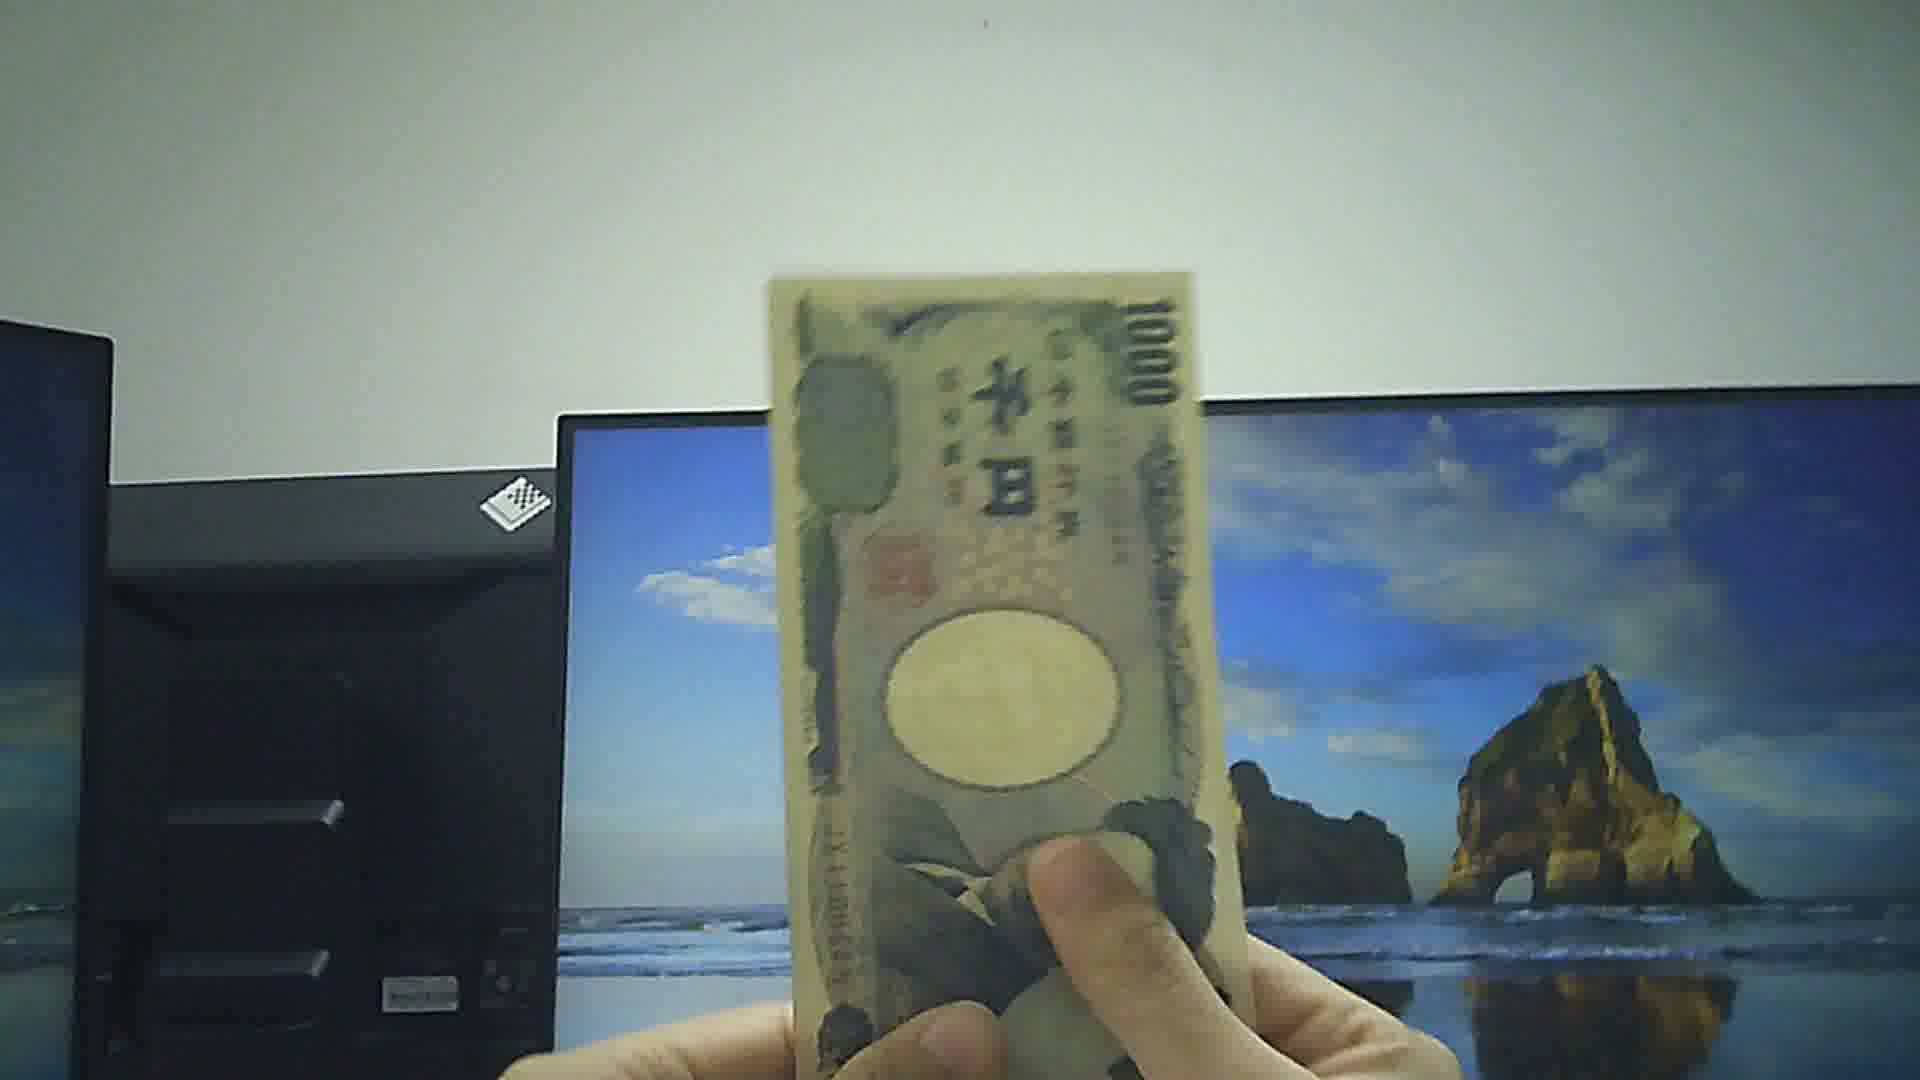1,000 Yen: (762, 255, 1275, 1079)
